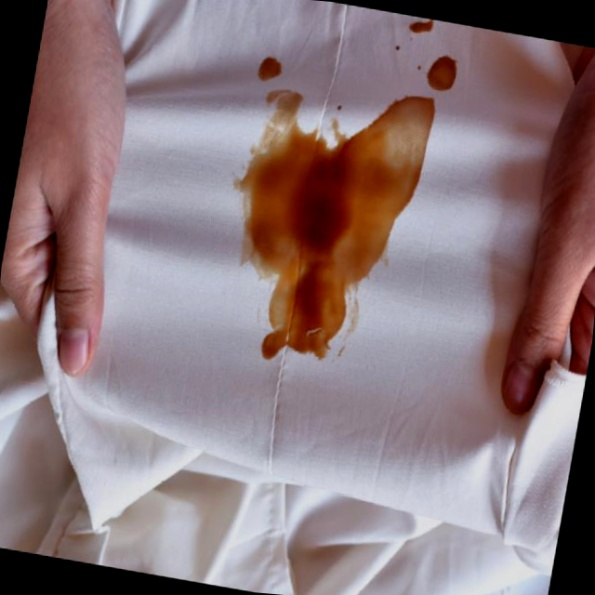coffee: (232, 90, 403, 380), (425, 52, 463, 93), (255, 52, 285, 81)
